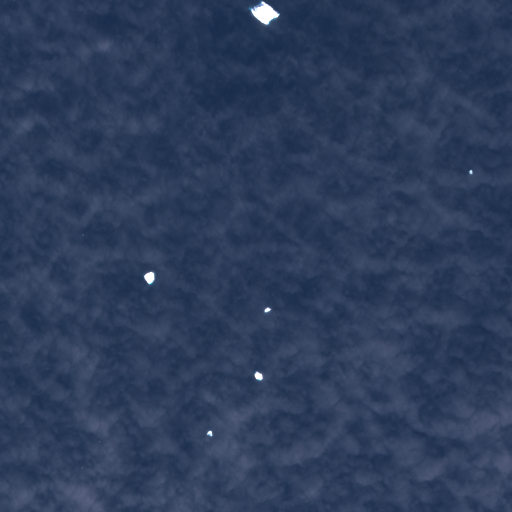Iceberg: (250, 1, 279, 24), (143, 271, 154, 284), (254, 371, 262, 380), (206, 430, 212, 436), (264, 307, 271, 312), (469, 169, 472, 174)
